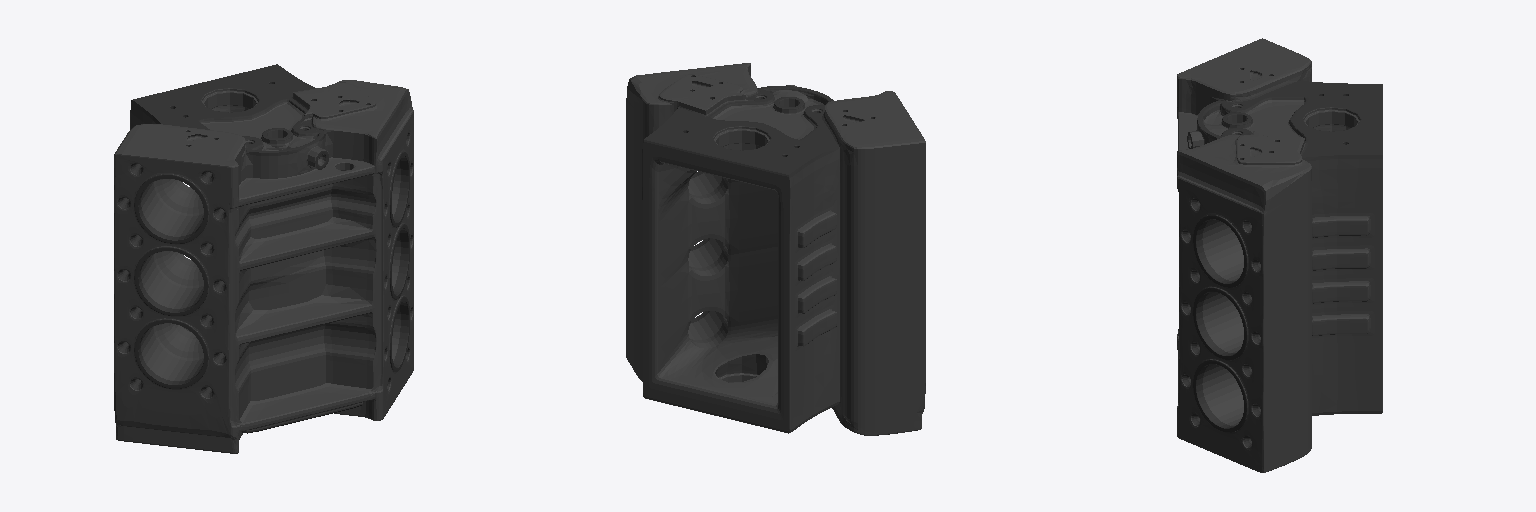
The picture shows the model from 3 angles: view 1: azimuth 30°, elevation 25°; view 2: azimuth 150°, elevation 25°; view 3: azimuth 270°, elevation 25°; orthographic projection.
Parts seen in each view (by area): view 1: Engine_Block_body; view 2: Engine_Block_body; view 3: Engine_Block_body.
Part boxes in pixels (left/top/right/bottom): Engine_Block_body: left=114, top=64, right=413, bottom=453; Engine_Block_body: left=626, top=63, right=925, bottom=435; Engine_Block_body: left=1177, top=38, right=1382, bottom=472.
Size of the model in its own units: 56.13 by 52.02 by 33.53.
1 materials, 1 textured.